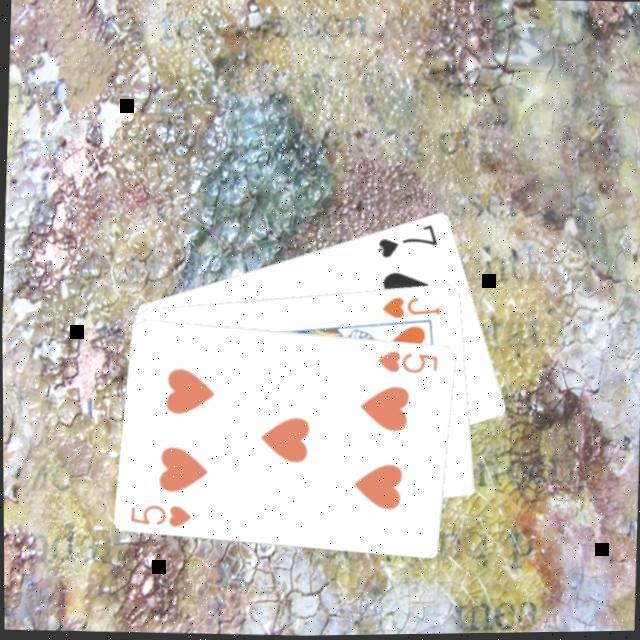5H: (125, 499, 194, 530), (373, 346, 440, 377)
7S: (372, 218, 440, 263)
JH: (377, 292, 443, 322)
